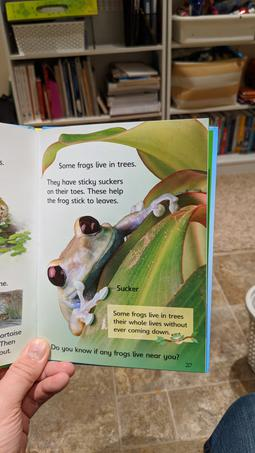text block: (107, 306, 192, 342), (47, 341, 190, 362), (44, 174, 128, 208), (53, 157, 141, 172), (111, 280, 147, 293)
